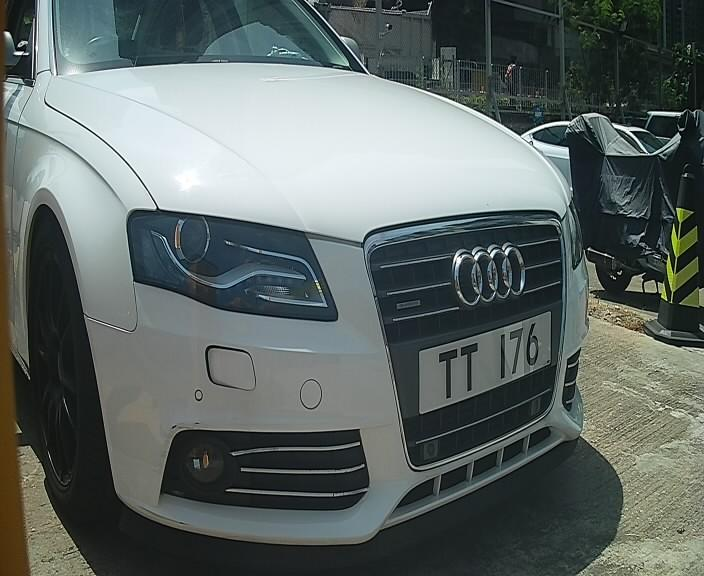License Plate: (409, 314, 551, 417)
